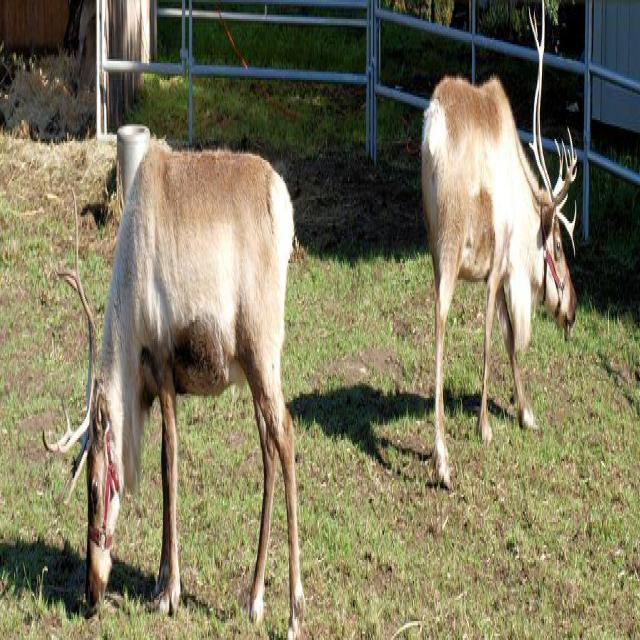Deer: (43, 143, 306, 638), (421, 4, 579, 495)
